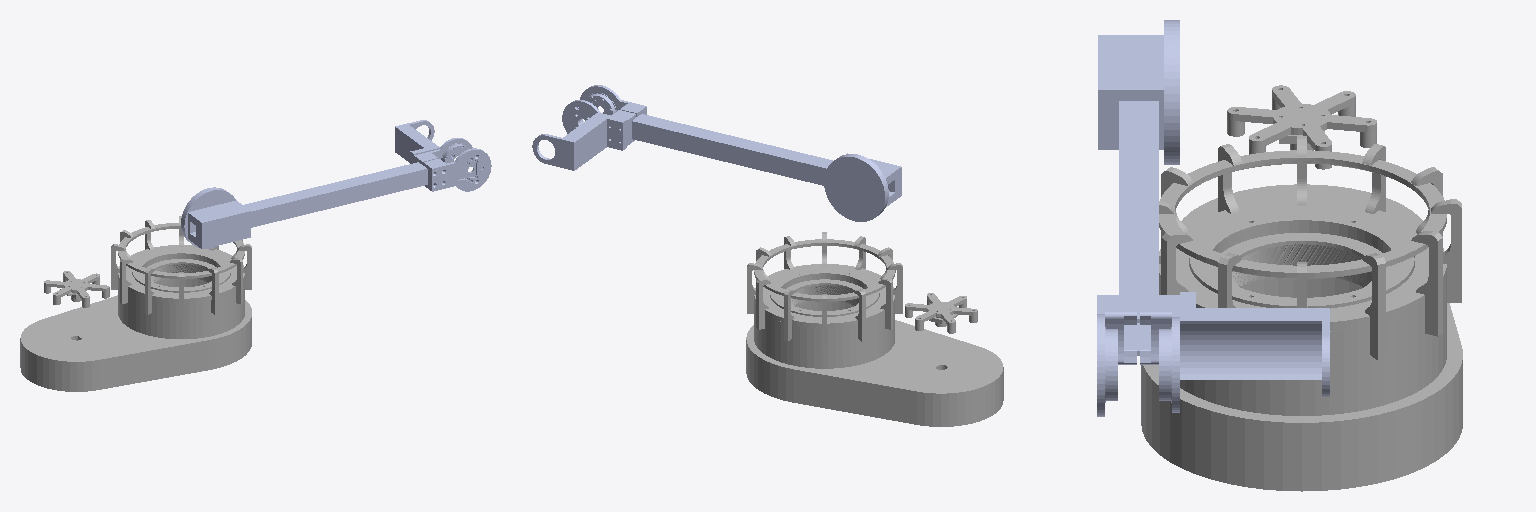
URDF robot description (ARbot_V1_4Export_5):
<?xml version="1.0" encoding="utf-8"?>
<!-- This URDF was automatically created by SolidWorks to URDF Exporter! Originally created by [author] ([email redacted]) 
     Commit Version: 1.5.1-0-g916b5db  Build Version: 1.5.7152.31018
     For more information, please see http://wiki.ros.org/sw_urdf_exporter -->
<robot
  name="ARbot_V1_4Export_5">
  <link
    name="base_link">
    <inertial>
      <origin
        xyz="-0.080223 5.3E-06 0.054528"
        rpy="0 0 0" />
      <mass
        value="4.9106" />
      <inertia
        ixx="0.011325"
        ixy="3.2424E-08"
        ixz="-1.8E-07"
        iyy="0.027106"
        iyz="-2.2091E-07"
        izz="0.036635" />
    </inertial>
    <visual>
      <origin
        xyz="0 0 0"
        rpy="0 0 0" />
      <geometry>
        <mesh
          filename="package://ARbot_V1_4Export_5/meshes/base_link.STL" />
      </geometry>
      <material
        name="">
        <color
          rgba="0.75294 0.75294 0.75294 1" />
      </material>
    </visual>
    <collision>
      <origin
        xyz="0 0 0"
        rpy="0 0 0" />
      <geometry>
        <mesh
          filename="package://ARbot_V1_4Export_5/meshes/base_link.STL" />
      </geometry>
    </collision>
  </link>
  <link
    name="L1">
    <inertial>
      <origin
        xyz="-1.302E-05 -0.0022648 0.17408"
        rpy="0 0 0" />
      <mass
        value="4.0253" />
      <inertia
        ixx="0.0065155"
        ixy="-5.2501E-07"
        ixz="3.4206E-07"
        iyy="0.007841"
        iyz="-0.00012217"
        izz="0.008449" />
    </inertial>
    <visual>
      <origin
        xyz="0 0 0"
        rpy="0 0 0" />
      <geometry>
        <mesh
          filename="package://ARbot_V1_4Export_5/meshes/L1.STL" />
      </geometry>
      <material
        name="">
        <color
          rgba="0.75294 0.75294 0.75294 1" />
      </material>
    </visual>
    <collision>
      <origin
        xyz="0 0 0"
        rpy="0 0 0" />
      <geometry>
        <mesh
          filename="package://ARbot_V1_4Export_5/meshes/L1.STL" />
      </geometry>
    </collision>
  </link>
  <joint
    name="J1"
    type="revolute">
    <origin
      xyz="0 0 0"
      rpy="0 0 0" />
    <parent
      link="base_link" />
    <child
      link="L1" />
    <axis
      xyz="0 0 -1" />
    <limit
      lower="-3.14"
      upper="3.14"
      effort="0"
      velocity="0" />
  </joint>
  <link
    name="L2">
    <inertial>
      <origin
        xyz="0.17319 -2.4719E-05 -0.00928"
        rpy="0 0 0" />
      <mass
        value="0.60289" />
      <inertia
        ixx="0.00023913"
        ixy="-2.2868E-19"
        ixz="1.3065E-05"
        iyy="0.0043525"
        iyz="5.6332E-20"
        izz="0.0043124" />
    </inertial>
    <visual>
      <origin
        xyz="0 0 0"
        rpy="0 0 0" />
      <geometry>
        <mesh
          filename="package://ARbot_V1_4Export_5/meshes/L2.STL" />
      </geometry>
      <material
        name="">
        <color
          rgba="0.79216 0.81961 0.93333 1" />
      </material>
    </visual>
    <collision>
      <origin
        xyz="0 0 0"
        rpy="0 0 0" />
      <geometry>
        <mesh
          filename="package://ARbot_V1_4Export_5/meshes/L2.STL" />
      </geometry>
    </collision>
  </link>
  <joint
    name="J2"
    type="revolute">
    <origin
      xyz="0 -0.10162 0.2271"
      rpy="1.5708 0 0" />
    <parent
      link="L1" />
    <child
      link="L2" />
    <axis
      xyz="0 0 1" />
    <limit
      lower="-3.14"
      upper="3.14"
      effort="0"
      velocity="0" />
  </joint>
  <link
    name="L3">
    <inertial>
      <origin
        xyz="0.053676 2.1181E-05 -0.046927"
        rpy="0 0 0" />
      <mass
        value="1.3426" />
      <inertia
        ixx="0.00046391"
        ixy="-7.926E-10"
        ixz="-4.1989E-07"
        iyy="0.0022357"
        iyz="1.4671E-07"
        izz="0.0023298" />
    </inertial>
    <visual>
      <origin
        xyz="0 0 0"
        rpy="0 0 0" />
      <geometry>
        <mesh
          filename="package://ARbot_V1_4Export_5/meshes/L3.STL" />
      </geometry>
      <material
        name="">
        <color
          rgba="0.95686 0.95686 0.95686 1" />
      </material>
    </visual>
    <collision>
      <origin
        xyz="0 0 0"
        rpy="0 0 0" />
      <geometry>
        <mesh
          filename="package://ARbot_V1_4Export_5/meshes/L3.STL" />
      </geometry>
    </collision>
  </link>
  <joint
    name="J3"
    type="revolute">
    <origin
      xyz="0.40104 -0.0001 0.0003"
      rpy="0 0 0" />
    <parent
      link="L2" />
    <child
      link="L3" />
    <axis
      xyz="0 0 -1" />
    <limit
      lower="-3.14"
      upper="3.14"
      effort="0"
      velocity="0" />
  </joint>
  <link
    name="L4">
    <inertial>
      <origin
        xyz="0.10356 0.0095095 -0.0011209"
        rpy="0 0 0" />
      <mass
        value="0.4635" />
      <inertia
        ixx="0.00016912"
        ixy="-2.8089E-08"
        ixz="6.4103E-08"
        iyy="0.00063381"
        iyz="1.0041E-08"
        izz="0.0007614" />
    </inertial>
    <visual>
      <origin
        xyz="0 0 0"
        rpy="0 0 0" />
      <geometry>
        <mesh
          filename="package://ARbot_V1_4Export_5/meshes/L4.STL" />
      </geometry>
      <material
        name="">
        <color
          rgba="0.95686 0.95686 0.95686 1" />
      </material>
    </visual>
    <collision>
      <origin
        xyz="0 0 0"
        rpy="0 0 0" />
      <geometry>
        <mesh
          filename="package://ARbot_V1_4Export_5/meshes/L4.STL" />
      </geometry>
    </collision>
  </link>
  <joint
    name="J4"
    type="revolute">
    <origin
      xyz="0.382 0 0"
      rpy="0 0 0" />
    <parent
      link="L3" />
    <child
      link="L4" />
    <axis
      xyz="0 0 -1" />
    <limit
      lower="-3.14"
      upper="3.14"
      effort="0"
      velocity="0" />
  </joint>
</robot>

--- What the picture shows (computed from the rendered views, not written in the file) ---
3 views of the same robot in one strip: view 1: azimuth 30°, elevation 25°; view 2: azimuth 150°, elevation 25°; view 3: azimuth 270°, elevation 25° (orthographic).
Robot: ARbot_V1_4Export_5 — 5 links, 4 joints (4 revolute); root link base_link; default pose: all joints at 0.
Links seen in each view (by area): view 1: base_link, L2; view 2: base_link, L2; view 3: base_link, L2.
Link boxes in pixels (x1,y1,x2,y2): base_link: (20, 216, 251, 391); L2: (181, 120, 491, 248); base_link: (746, 232, 1003, 426); L2: (532, 85, 901, 221); base_link: (1141, 85, 1462, 491); L2: (1097, 20, 1329, 416).
Size in the robot's own frame: 0.6842 by 0.2282 by 0.2721 metres.
2 mesh visuals loaded from 5 distinct referenced files (2 binary STL); not drawn: 3 (reference not matched to a file when rendering).